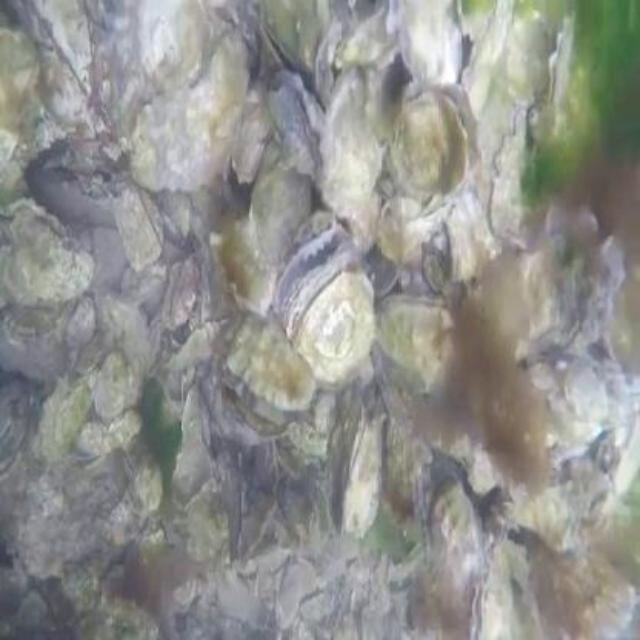Oyster-Closed: (128, 29, 250, 196), (90, 0, 209, 137), (320, 66, 385, 220), (535, 549, 635, 640), (490, 107, 549, 252), (251, 149, 313, 267), (375, 293, 451, 386), (432, 478, 481, 613), (338, 409, 386, 539), (37, 363, 100, 459), (215, 213, 275, 309), (0, 31, 36, 186), (385, 424, 437, 525), (471, 533, 515, 640), (267, 86, 319, 175), (230, 82, 273, 183), (546, 12, 581, 132), (506, 487, 578, 545), (443, 199, 493, 278), (115, 184, 161, 268), (504, 17, 548, 99), (0, 378, 32, 482), (64, 295, 99, 357), (565, 364, 606, 415), (120, 263, 165, 304), (95, 359, 125, 415), (457, 0, 495, 40)
Oyster-Open: (274, 227, 376, 389), (221, 314, 317, 440), (0, 199, 95, 307), (399, 79, 480, 193), (260, 0, 326, 111), (388, 0, 462, 87)
